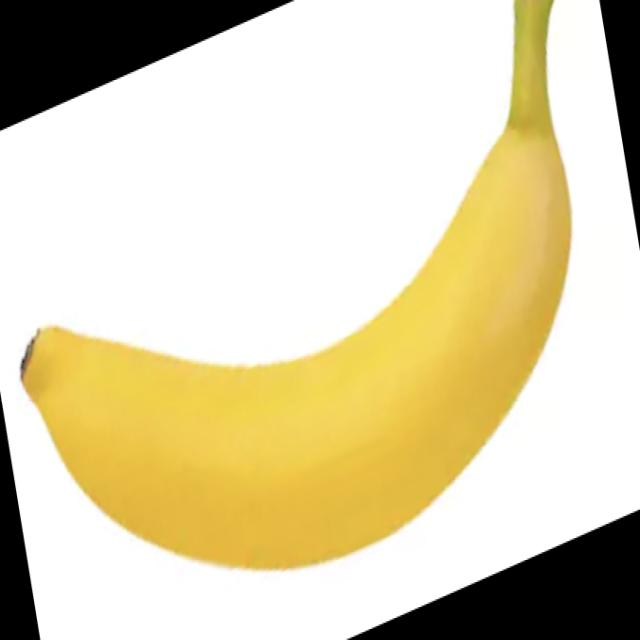god quality banana: (25, 2, 572, 569)
